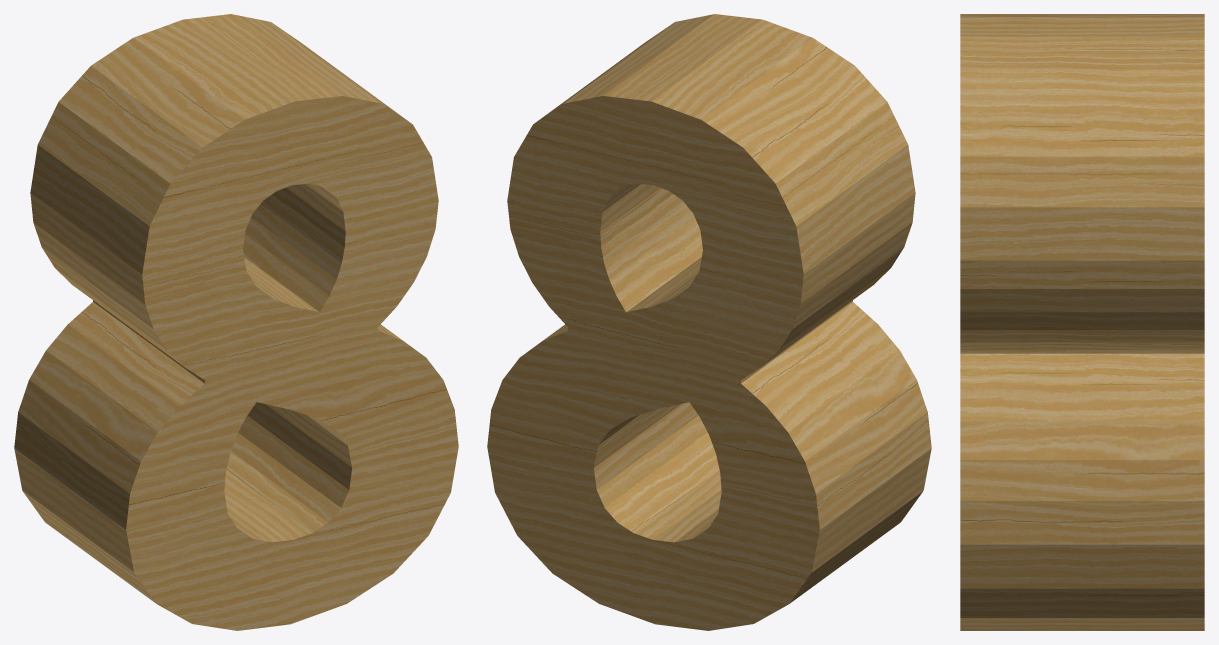
Rendered from MounTripElement_8.glb.
3 renders of one model, left to right at view 1: azimuth 30°, elevation 25°; view 2: azimuth 150°, elevation 25°; view 3: azimuth 270°, elevation 25°, orthographic. The views are drawn at different scales.
Parts seen in each view (by area): view 1: 3D 8 - 8; view 2: 3D 8 - 8; view 3: 3D 8 - 8.
Part boxes in pixels (x1,y1,x2,y2): 3D 8 - 8: (14,14,458,630); 3D 8 - 8: (487,14,931,630); 3D 8 - 8: (960,14,1204,630).
Size of the model in its own units: 0.0257 by 0.0386 by 0.015.
1 material, 1 textured.
